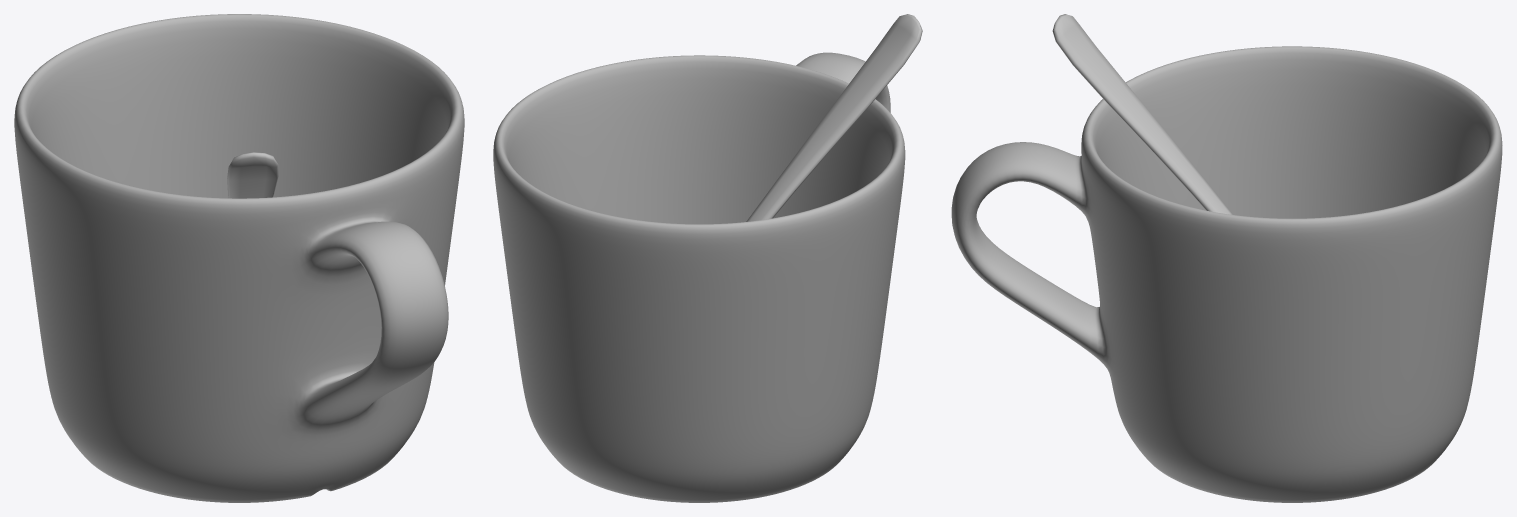
Rendered from mug.glb.
The picture shows the model from 3 angles, left to right: view 1: azimuth 30°, elevation 25°; view 2: azimuth 150°, elevation 25°; view 3: azimuth 270°, elevation 25°; orthographic projection. The views are drawn at different scales.
Parts seen in each view (by area): view 1: mug, spoon; view 2: mug, spoon; view 3: mug, spoon.
Part boxes in pixels (x1=…): mug: x1=14, y1=14, x2=464, y2=502; spoon: x1=227, y1=152, x2=278, y2=198; mug: x1=493, y1=52, x2=905, y2=502; spoon: x1=746, y1=14, x2=922, y2=221; mug: x1=951, y1=46, x2=1502, y2=502; spoon: x1=1052, y1=14, x2=1232, y2=214.
Size of the model in its own units: 9.57 by 9.39 by 12.54.
Materials: 1 (1 with a texture image).
